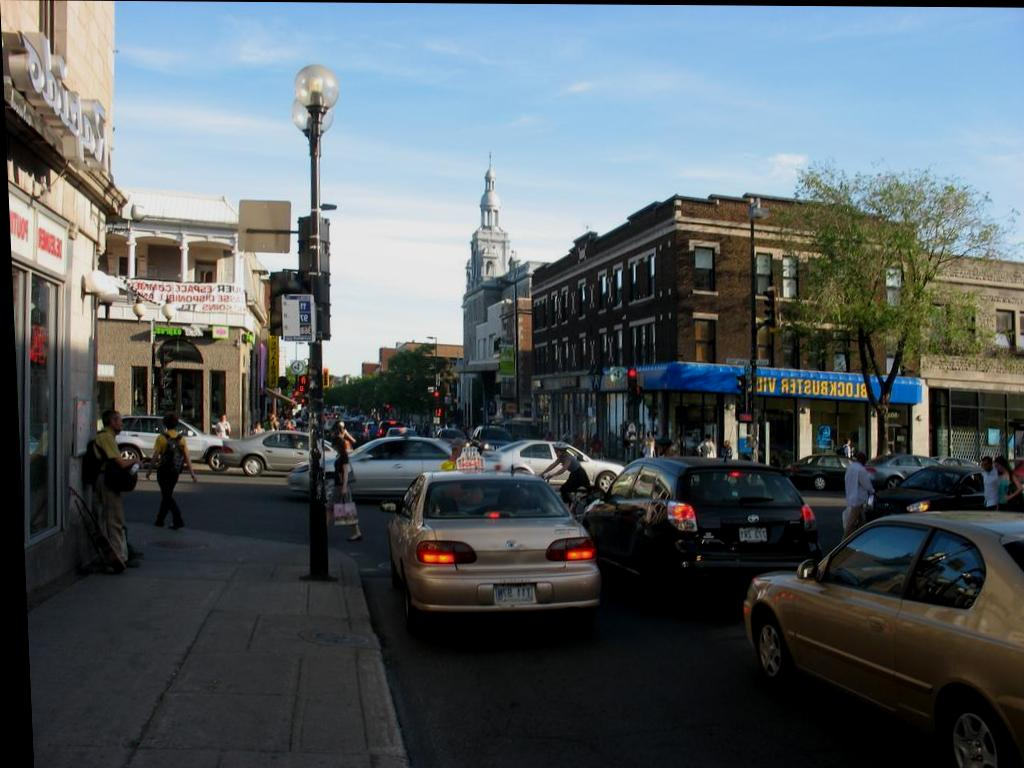License_Plate: (493, 582, 535, 606), (737, 529, 770, 543)
